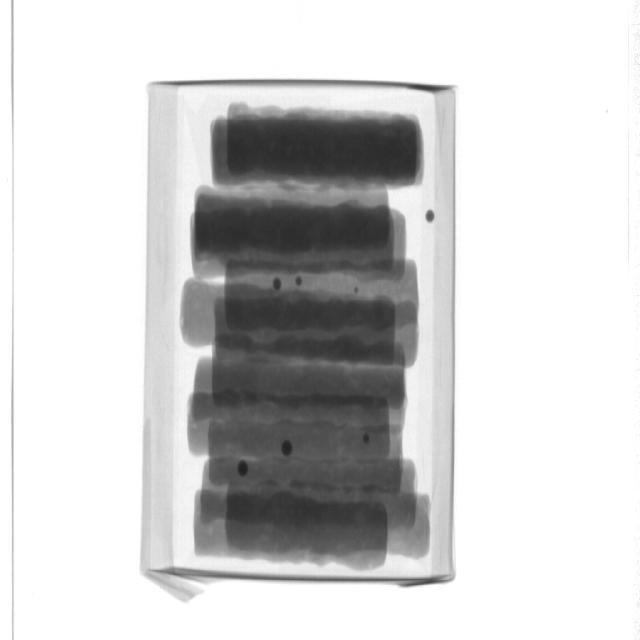ym: (283, 442, 295, 458), (239, 460, 250, 477), (275, 278, 284, 292), (427, 210, 435, 224), (296, 277, 303, 287), (364, 434, 370, 442), (354, 288, 360, 293)
